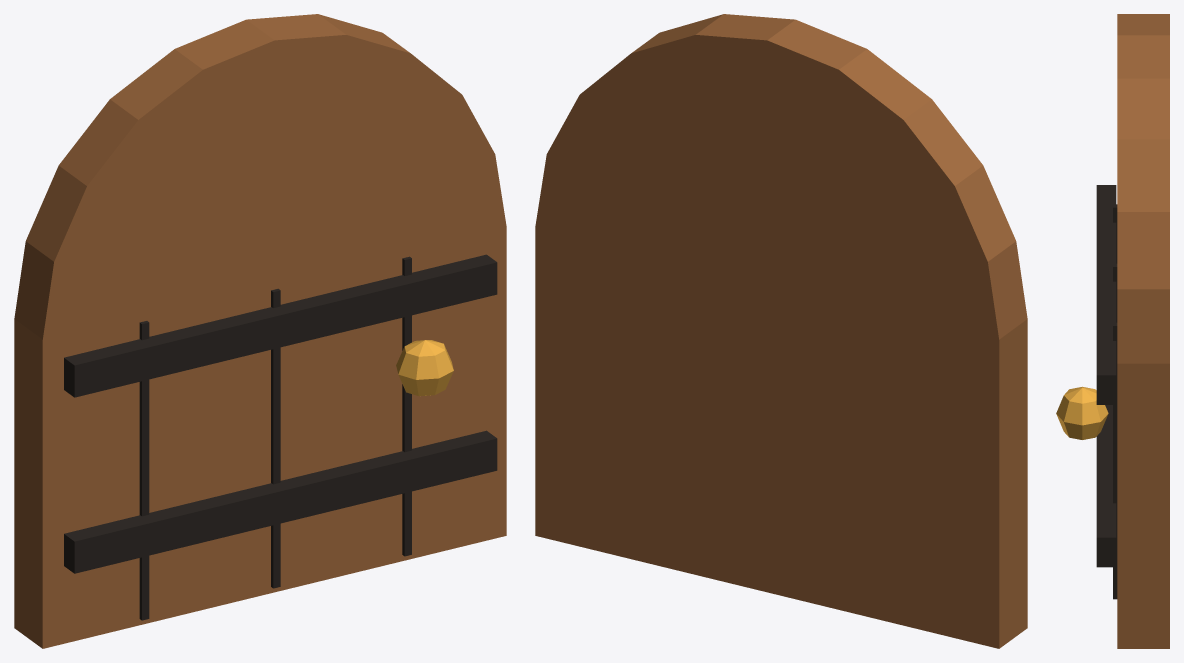
The model's file is kiln_door.glb.
3 views of the same model, side by side, from view 1: azimuth 30°, elevation 25°; view 2: azimuth 150°, elevation 25°; view 3: azimuth 270°, elevation 25° (orthographic). The views are drawn at different scales.
Visible parts, largest first — view 1: door_leaf; view 2: door_leaf; view 3: door_leaf.
Boxes of the visible parts, bbox=[...] form: door_leaf: bbox=[14, 14, 506, 648]; door_leaf: bbox=[535, 14, 1027, 648]; door_leaf: bbox=[1056, 14, 1169, 648].
Size of the model in its own units: 1.13 by 1.28 by 0.26.
